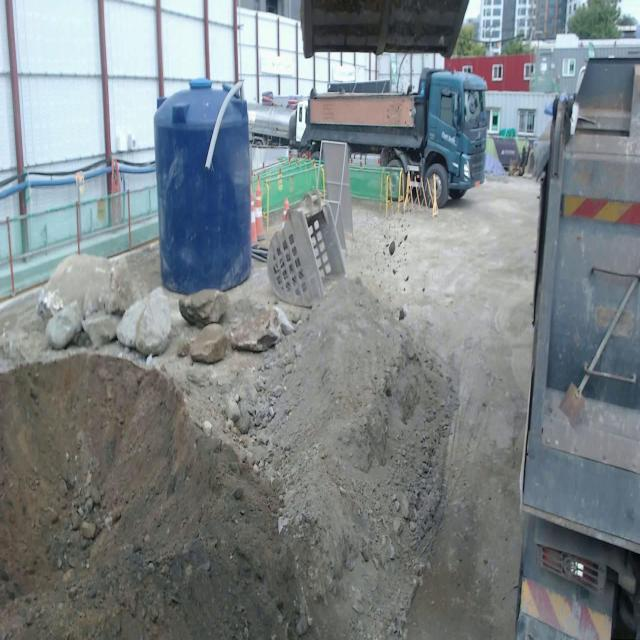red-sand: (0, 353, 300, 639)
rocks: (37, 254, 134, 349)
stone: (116, 287, 171, 354), (229, 309, 280, 352), (179, 289, 229, 327), (189, 324, 231, 364)
white-sand: (251, 279, 456, 639)
